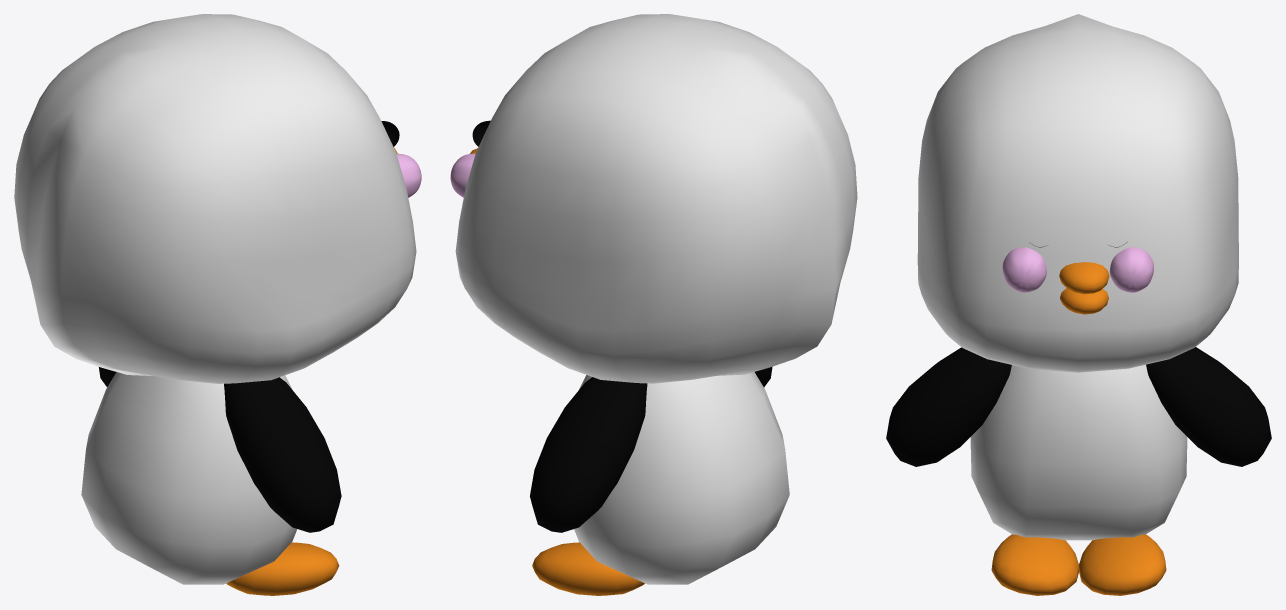
The model's file is rico.fbx.
3 views of the same model, side by side, from view 1: azimuth 30°, elevation 25°; view 2: azimuth 150°, elevation 25°; view 3: azimuth 270°, elevation 25° (orthographic). The views are drawn at different scales.
Visible parts, largest first — view 1: Cube, Cube.001, Cube.002, Cube.003, Circle.001; view 2: Cube, Cube.001, Cube.002, Cube.003, Circle.001; view 3: Cube, Cube.001, Cube.002, Cube.003, Circle.001, Cube.005, Cube.004.
Part boxes in pixels (x1,y1,x2,y2): Cube: [14, 14, 416, 383]; Cube.001: [81, 372, 297, 584]; Cube.002: [99, 367, 341, 532]; Cube.003: [226, 542, 339, 595]; Circle.001: [396, 153, 421, 197]; Cube: [455, 14, 857, 383]; Cube.001: [574, 372, 789, 584]; Cube.002: [530, 366, 772, 532]; Cube.003: [532, 542, 644, 595]; Circle.001: [450, 153, 475, 197]; Cube: [917, 14, 1238, 372]; Cube.001: [970, 364, 1187, 540]; Cube.002: [886, 347, 1271, 466]; Cube.003: [991, 534, 1166, 595]; Circle.001: [1002, 247, 1153, 292]; Cube.005: [1059, 262, 1109, 294]; Cube.004: [1060, 288, 1108, 314].
Size of the model in its own units: 176 by 255 by 173.
